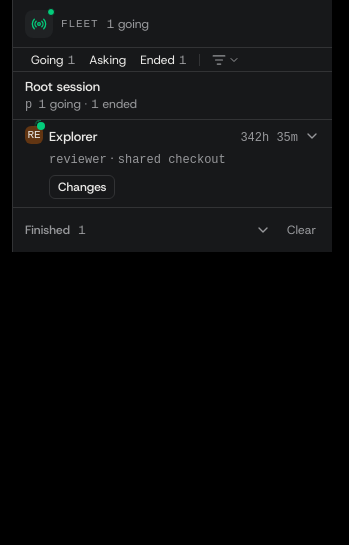
Test case: the fleet column › scopes disclosure to one projected copy of a duplicated agent key
Step 1. Click the button "Finished 1" → [47, 230], box 13,208 -> 279,252
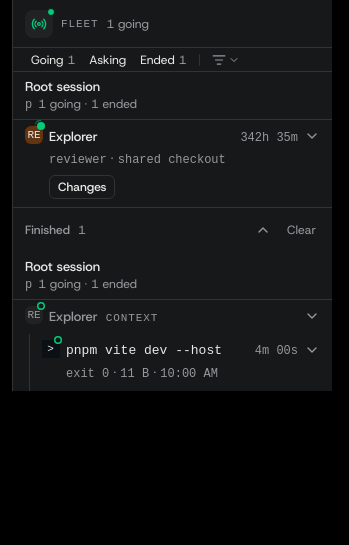
Step 2. Click the button "RE Explorer 342h 35m" → [73, 136], box 25,128 -> 320,146
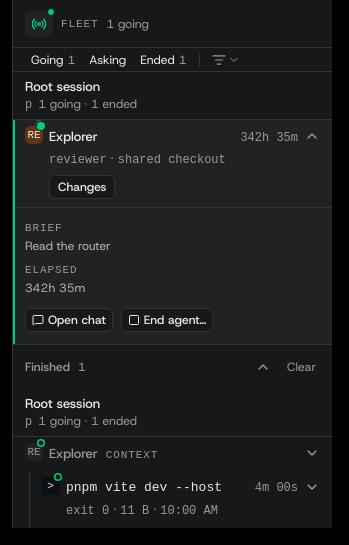
Step 3. Click the button "RE Explorer context" → [73, 454], box 25,445 -> 320,463
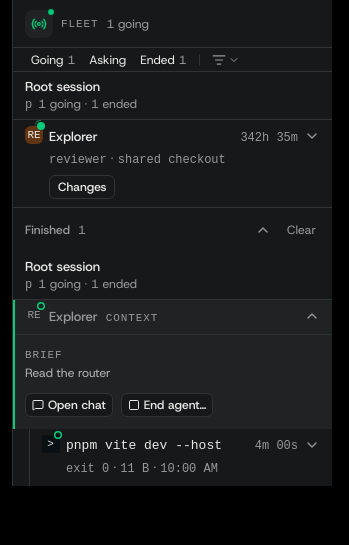
expect the element showing "RE Explorer 342h 35m reviewer · shared checkout Changes" does not have attribute data-expanded: met, box 13,120 -> 332,207
